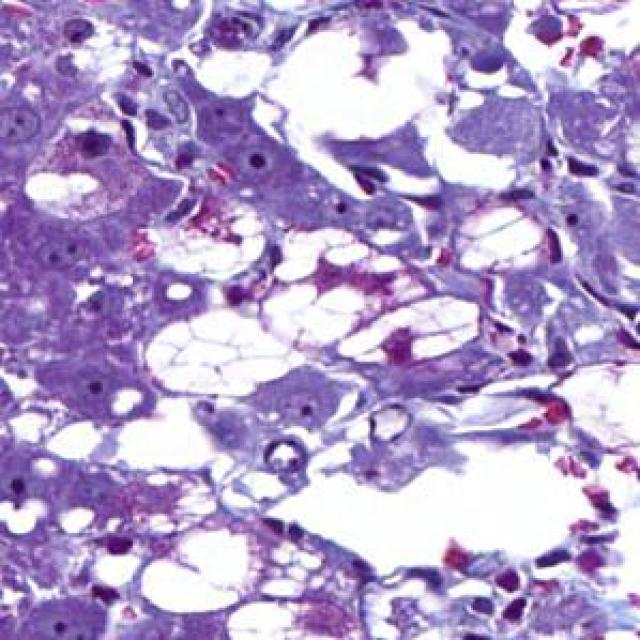ballooning: (253, 223, 482, 368), (144, 302, 308, 400)
